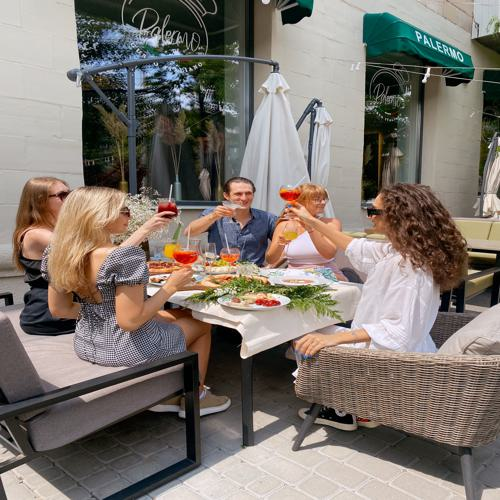copa: (175, 236, 203, 277), (156, 201, 180, 236), (281, 184, 302, 219), (219, 241, 242, 272)
